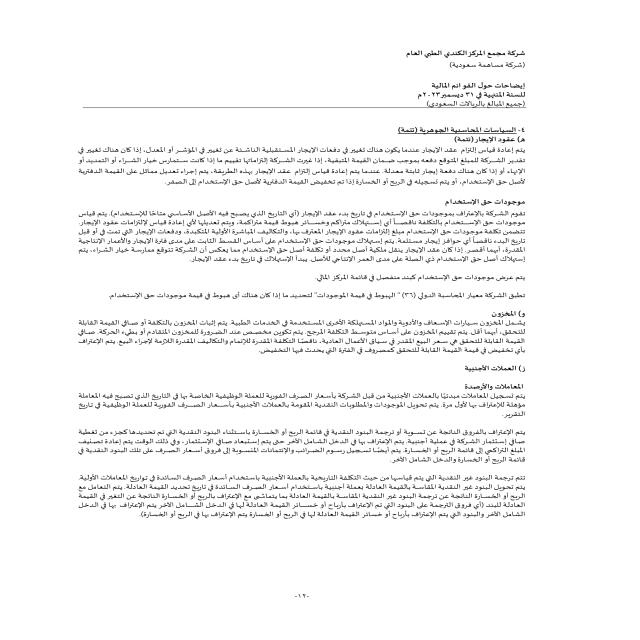notes: (416, 81, 532, 89)
text: (58, 120, 548, 533)
